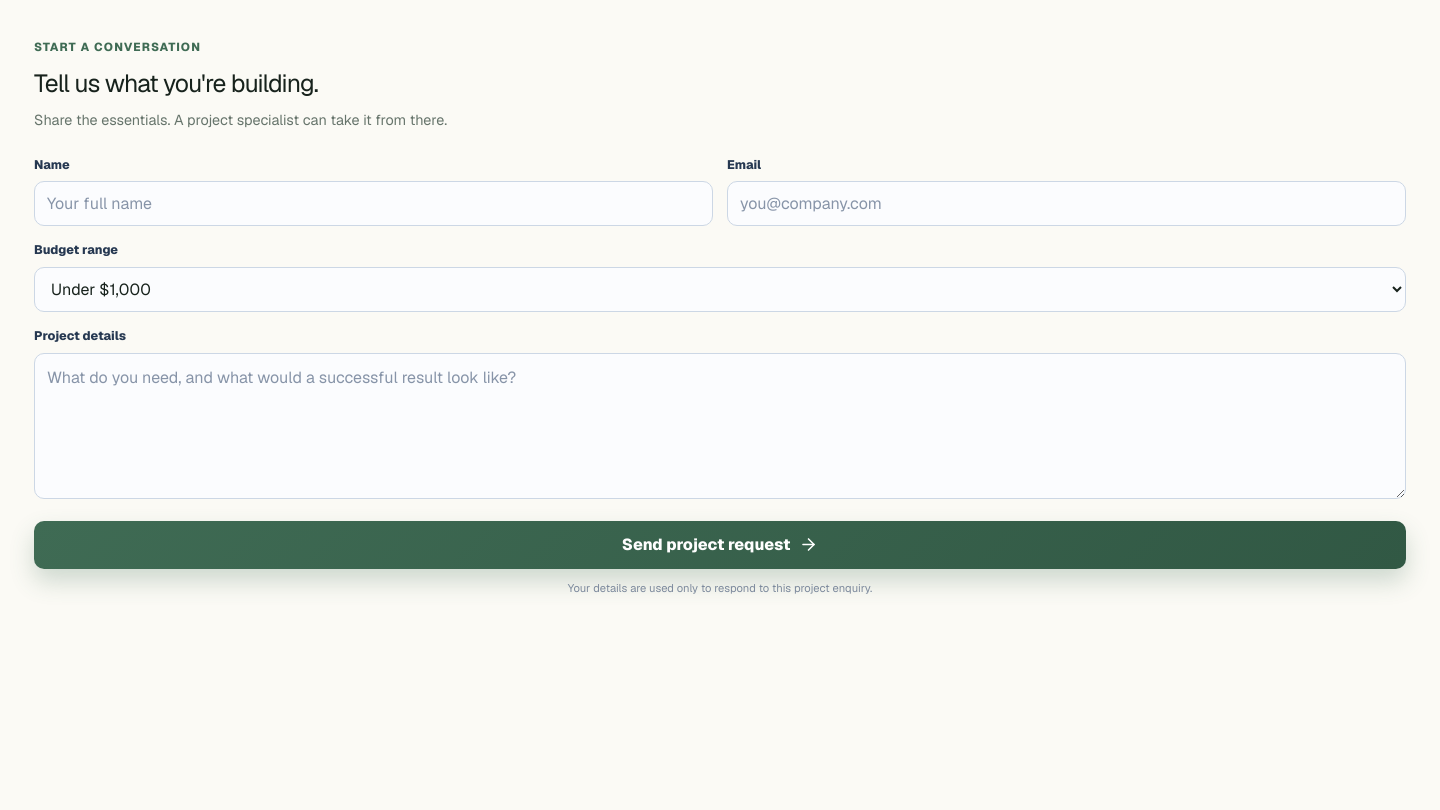
Test: LeadForm › preserves entered values when the server fails
Type "Mousumi Swain" into the field labelled "Name". click: [374, 204]
box: [34, 181, 713, 226]
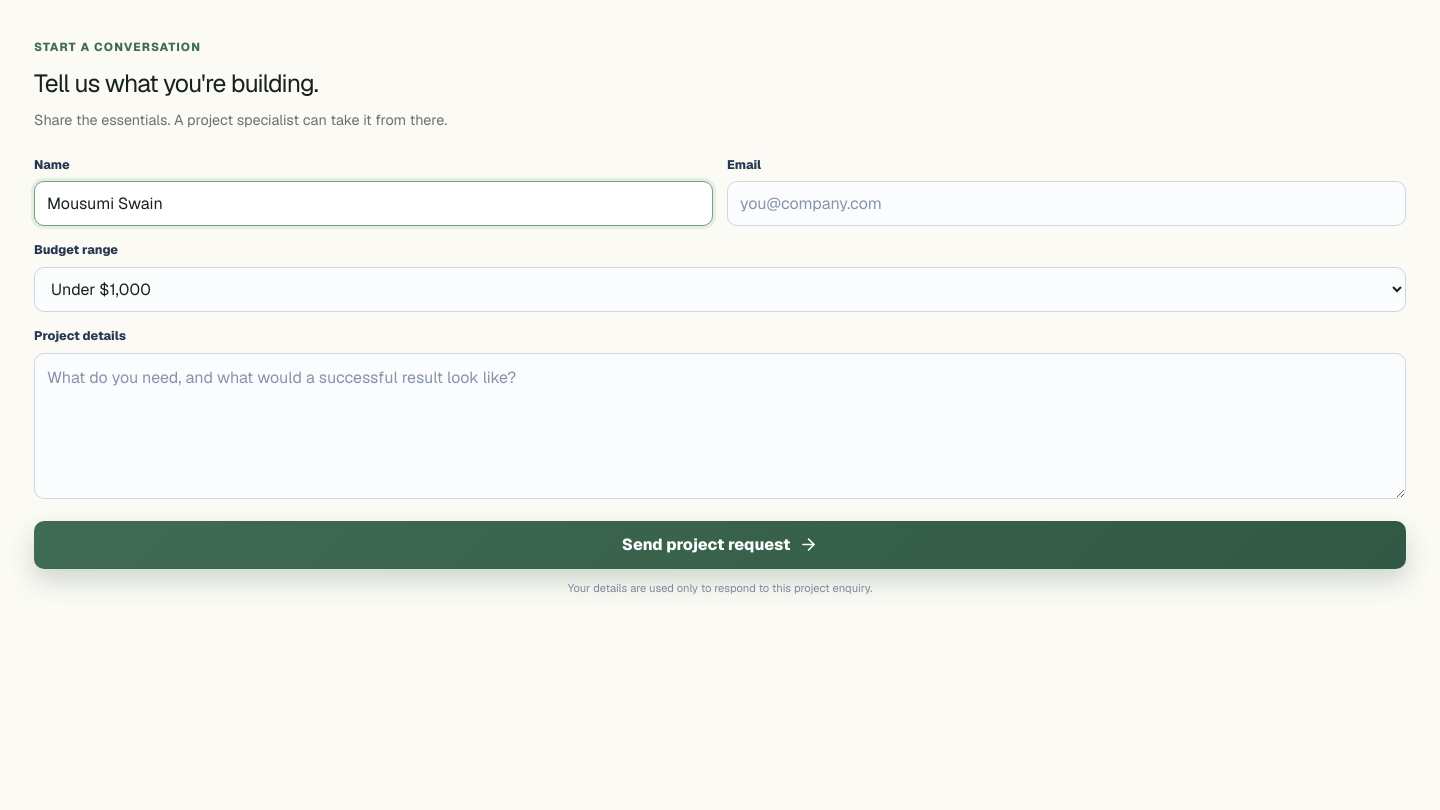
Type "mousumi@example.com" into the field labelled "Email". click: [1066, 204]
box: [727, 181, 1406, 226]
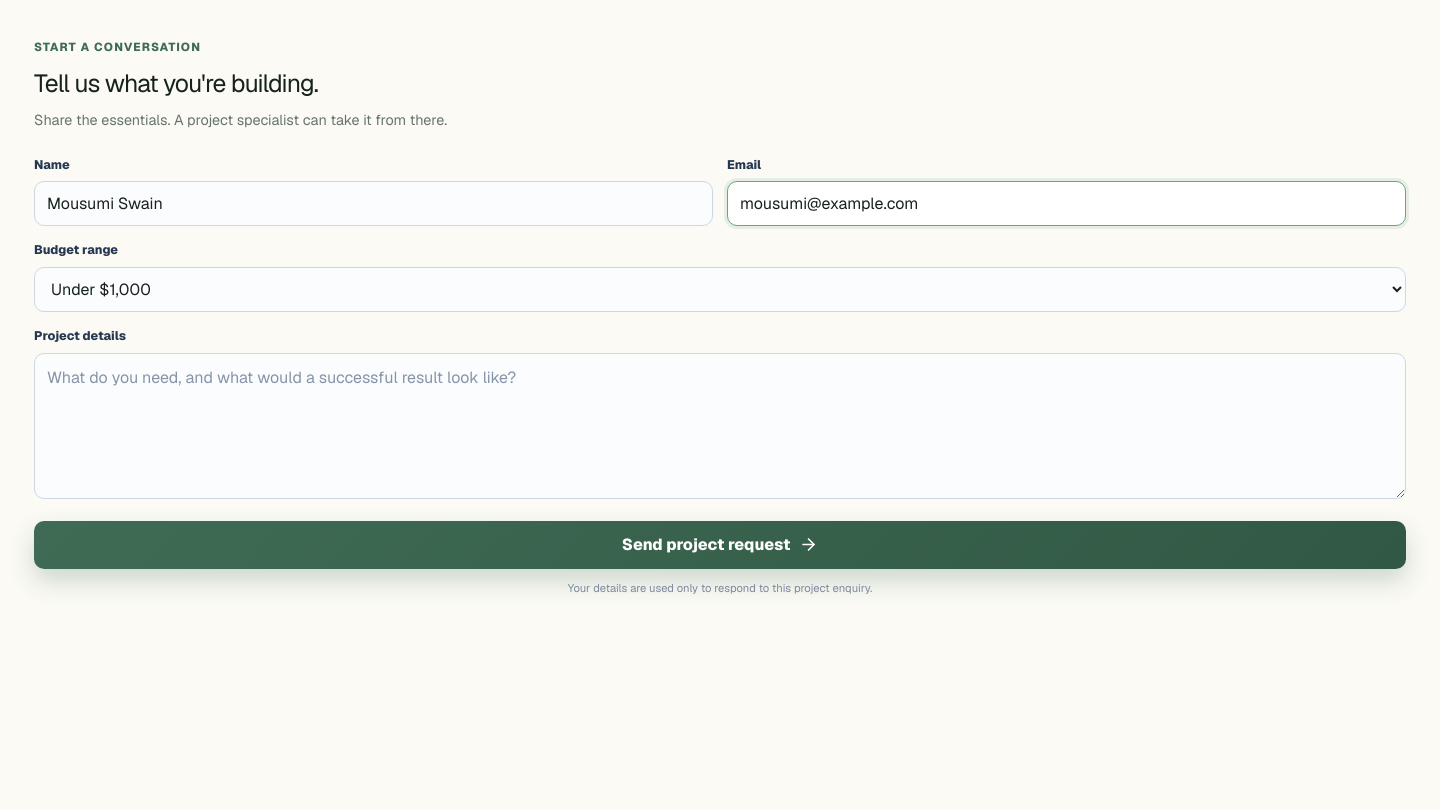
Select "$1,000 - $5,000" in the dropdown labelled "Budget range". click: [720, 290]
box: [34, 267, 1406, 312]
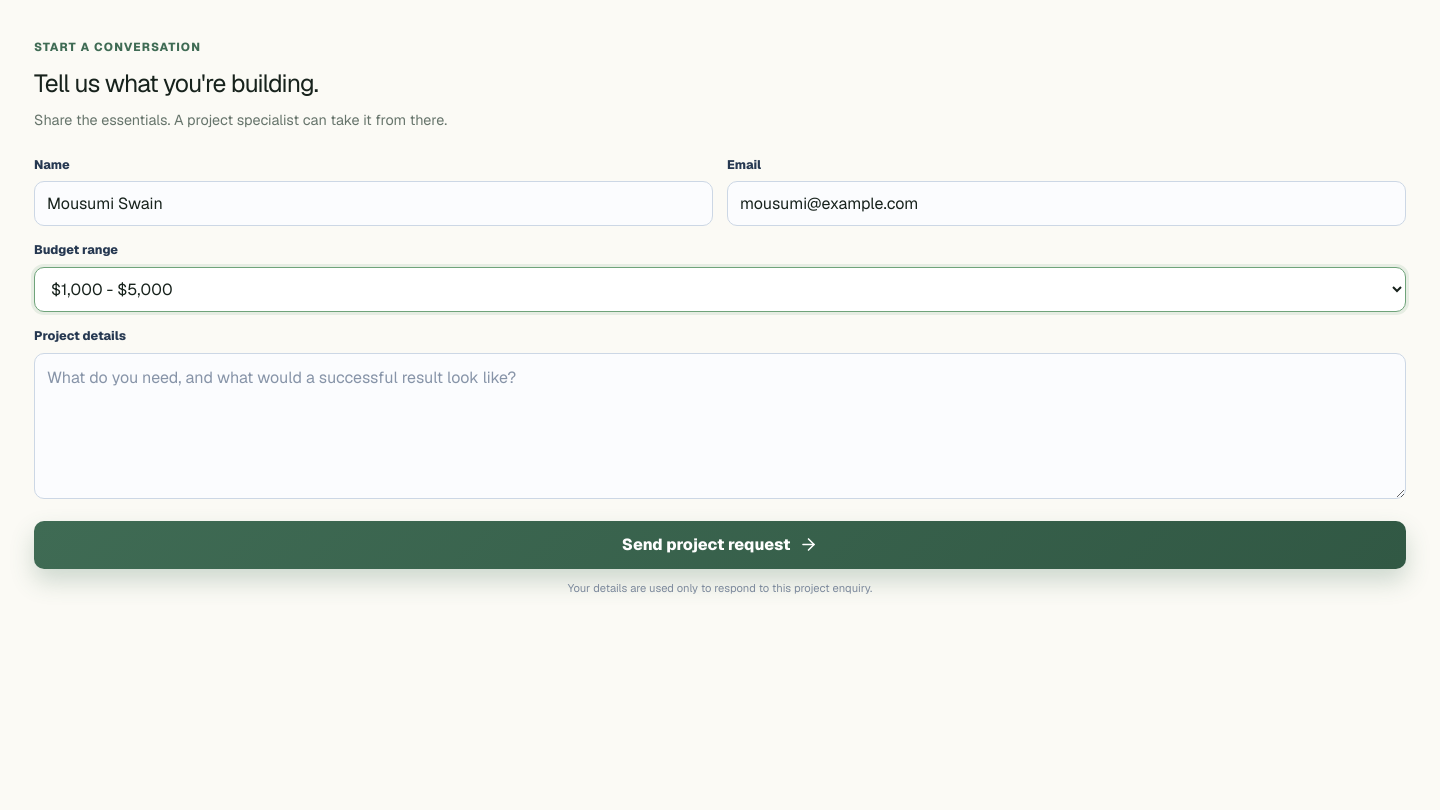
Type "I need a responsive Shopify storefront for my clothing brand." into the text box labelled "Project details". click: [720, 426]
box: [34, 353, 1406, 499]
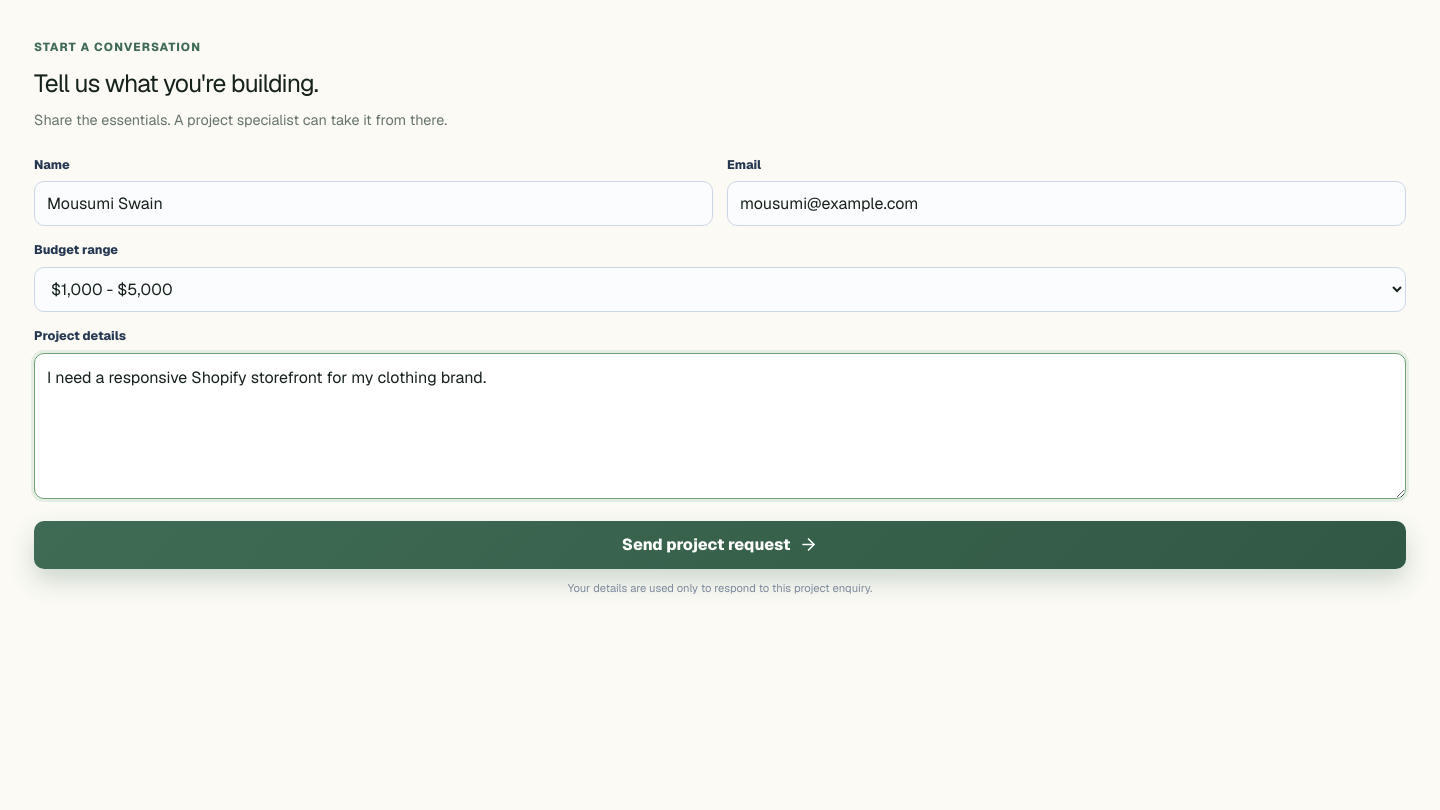
Click the button "Send project request". click: [720, 545]
box: [34, 521, 1406, 569]
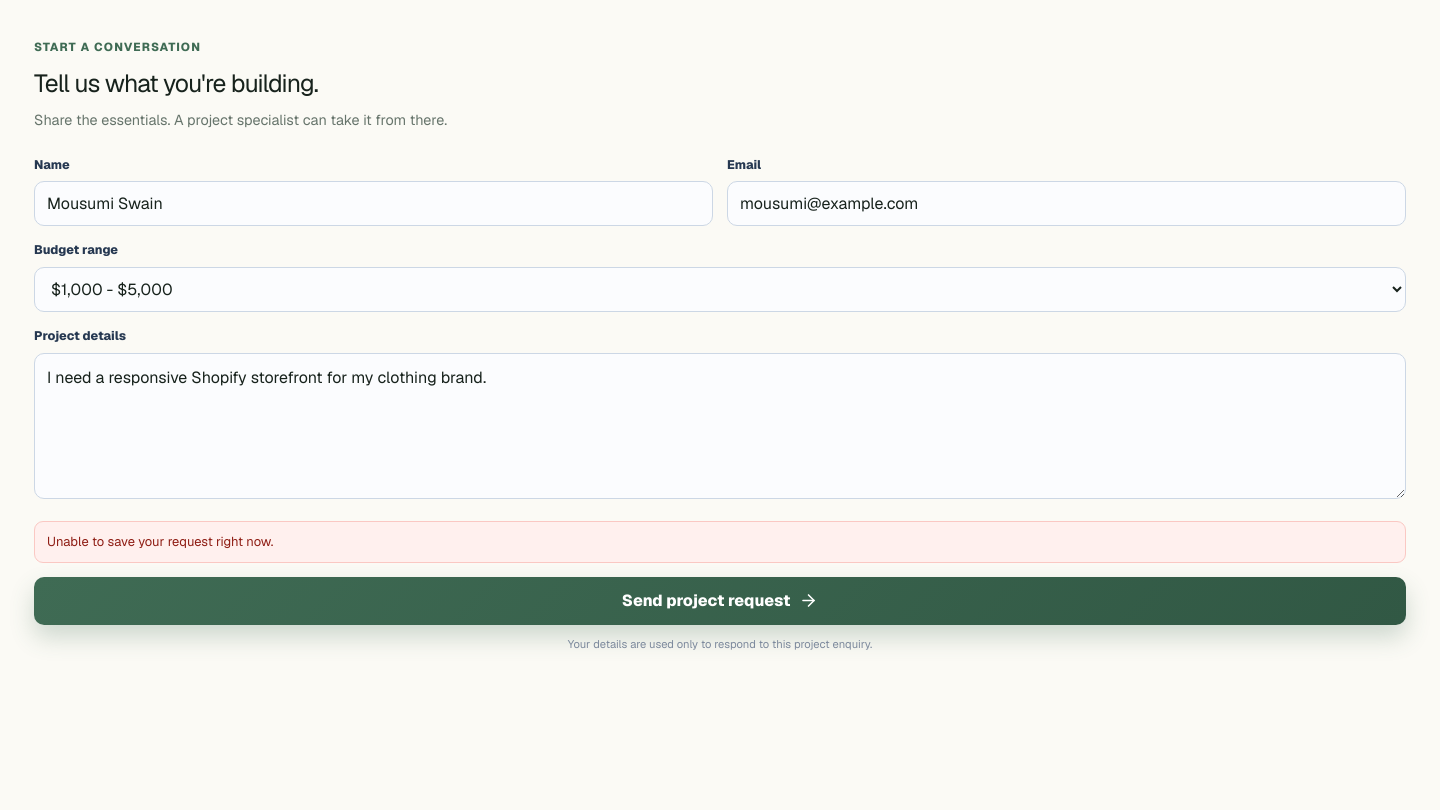
Now the text "Unable to save your request right now." is shown, box [47, 533, 273, 551]
